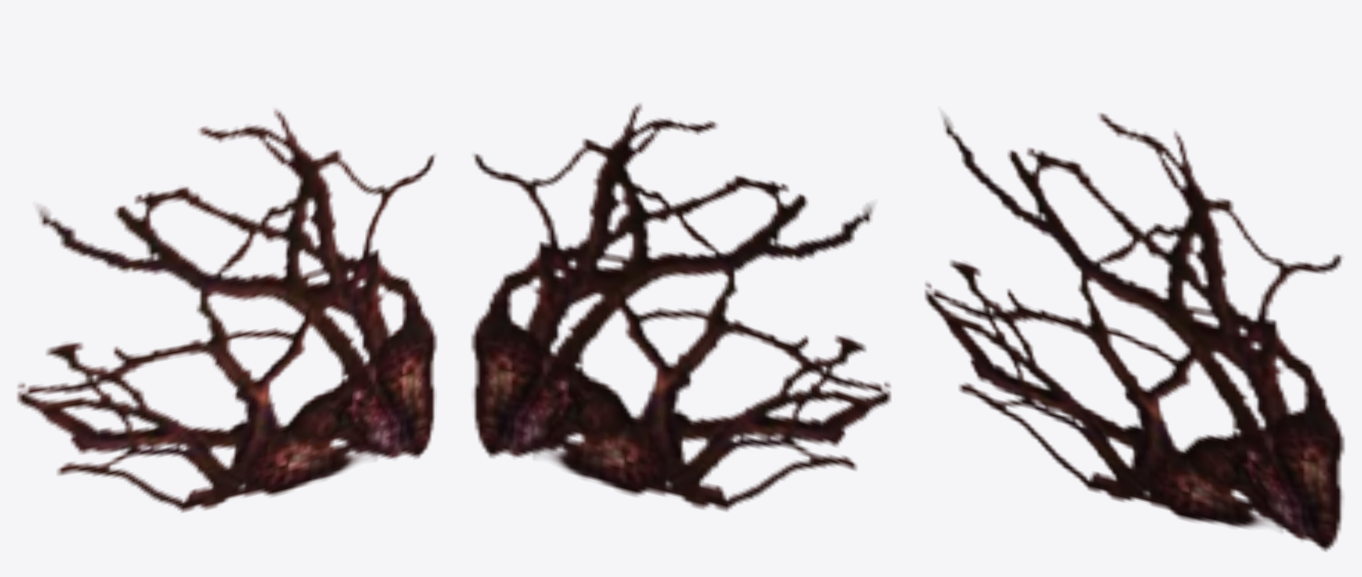
The picture shows the model from 3 angles, left to right: view 1: azimuth 30°, elevation 25°; view 2: azimuth 150°, elevation 25°; view 3: azimuth 330°, elevation 25°; orthographic projection.
Visible parts, largest first — view 1: model_Object62; view 2: model_Object62; view 3: model_Object62.
Part boxes in pixels (x1=…): model_Object62: x1=17, y1=109, x2=436, y2=512; model_Object62: x1=471, y1=104, x2=890, y2=511; model_Object62: x1=925, y1=113, x2=1344, y2=551.
Size of the model in its own units: 2.01 by 2.01 by 0.1362.
Materials: 1 (1 with a texture image).
